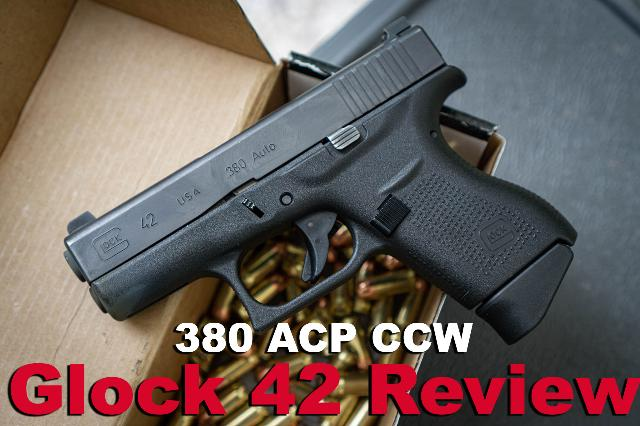handgun: (56, 12, 586, 352)
